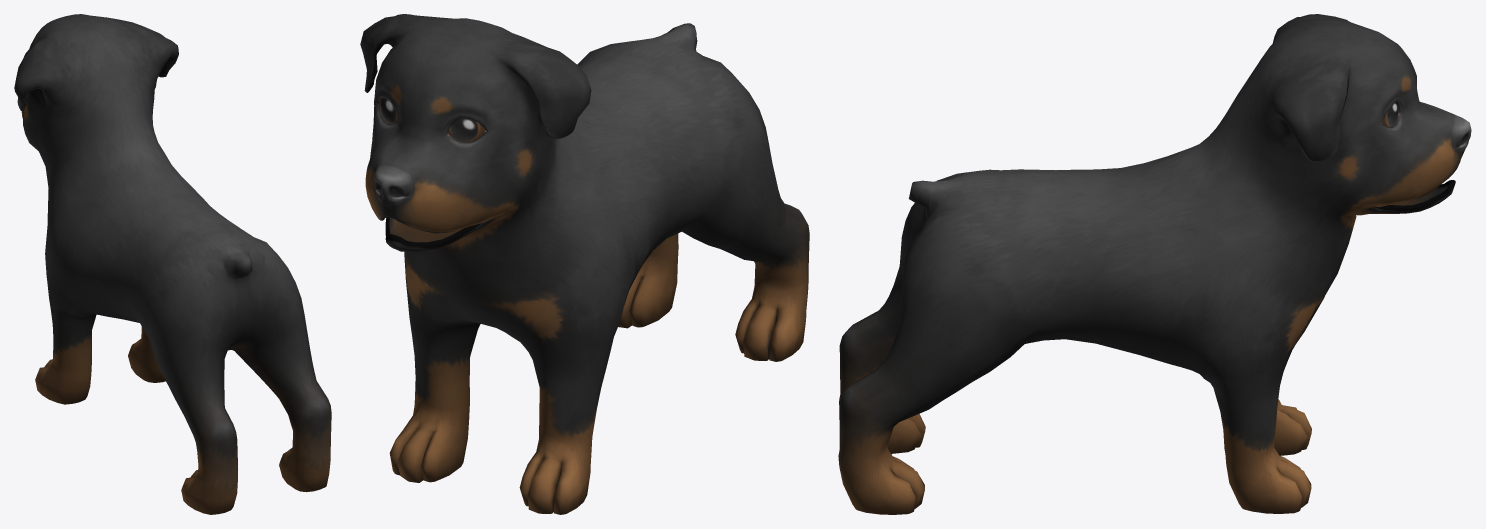
File: Dog.fbx
The picture shows the model from 3 angles, left to right: view 1: azimuth 30°, elevation 25°; view 2: azimuth 150°, elevation 25°; view 3: azimuth 270°, elevation 25°; orthographic projection. The views are drawn at different scales.
Parts seen in each view (by area): view 1: dog.001; view 2: dog.001; view 3: dog.001.
Boxes of the visible parts, x1,y1,x2,y2 form: dog.001: (14, 14, 331, 514); dog.001: (360, 14, 809, 514); dog.001: (838, 14, 1471, 514).
Bounding box in the file's own units: 89.26 × 180 × 235.
